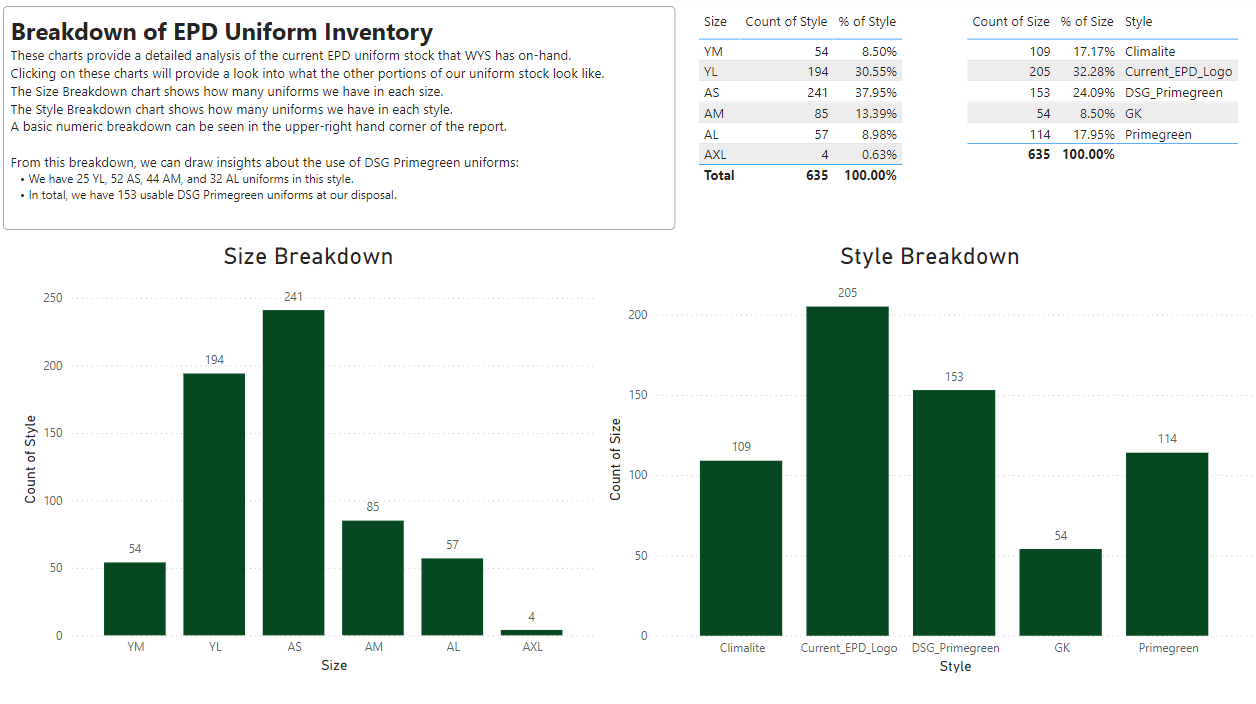

Layout of this report page (visuals, bound fields, positions):
{"tool":"powerbi","page":{"name":"Uniform Breakdown","canvas":[1280,720],"ordinal":0},"visuals":[{"type":"columnChart","title":"Size Breakdown","fields":{"Category":["Sheet1.Size"],"Y":["CountNonNull(Sheet1.Style)"]},"box":[26.1,249.6,589.7,440.2],"z":0},{"type":"textbox","box":[12.9,11.4,678.6,225.7],"z":3000},{"type":"columnChart","title":"Style Breakdown","fields":{"Category":["Sheet1.Style"],"Y":["CountNonNull(Sheet1.Size)"]},"box":[616.3,249.8,663.2,440.6],"z":4000},{"type":"tableEx","fields":{"Values":["Sheet1.Size","Sheet1.Style","Divide(CountNonNull(Sheet1.Style), ScopedEval(CountNonNull(Sheet1.Style), []))"]},"box":[708.6,11.4,281.4,188.6],"z":4500},{"type":"tableEx","fields":{"Values":["Sheet1.Size","Divide(CountNonNull(Sheet1.Size), ScopedEval(CountNonNull(Sheet1.Size), []))","Inventory_Master.Style"]},"box":[980,11.4,300,167.1],"z":5000}]}

Visuals, with their boxes in screenshot pixels (x1, y1, x2, y2), scaled from the page's 1280x720 canvas onto the 1256x704 screenshot:
"Size Breakdown" columnChart: bbox=(26, 244, 604, 674)
textbox: bbox=(13, 11, 679, 232)
"Style Breakdown" columnChart: bbox=(605, 244, 1255, 675)
tableEx - Sheet1.Size x Sheet1.Style: bbox=(695, 11, 971, 196)
tableEx - Sheet1.Size x Divide(CountNonNull(Sheet1.Size), ScopedEval(CountNonNull(Sheet1.Size), [])): bbox=(962, 11, 1255, 175)
